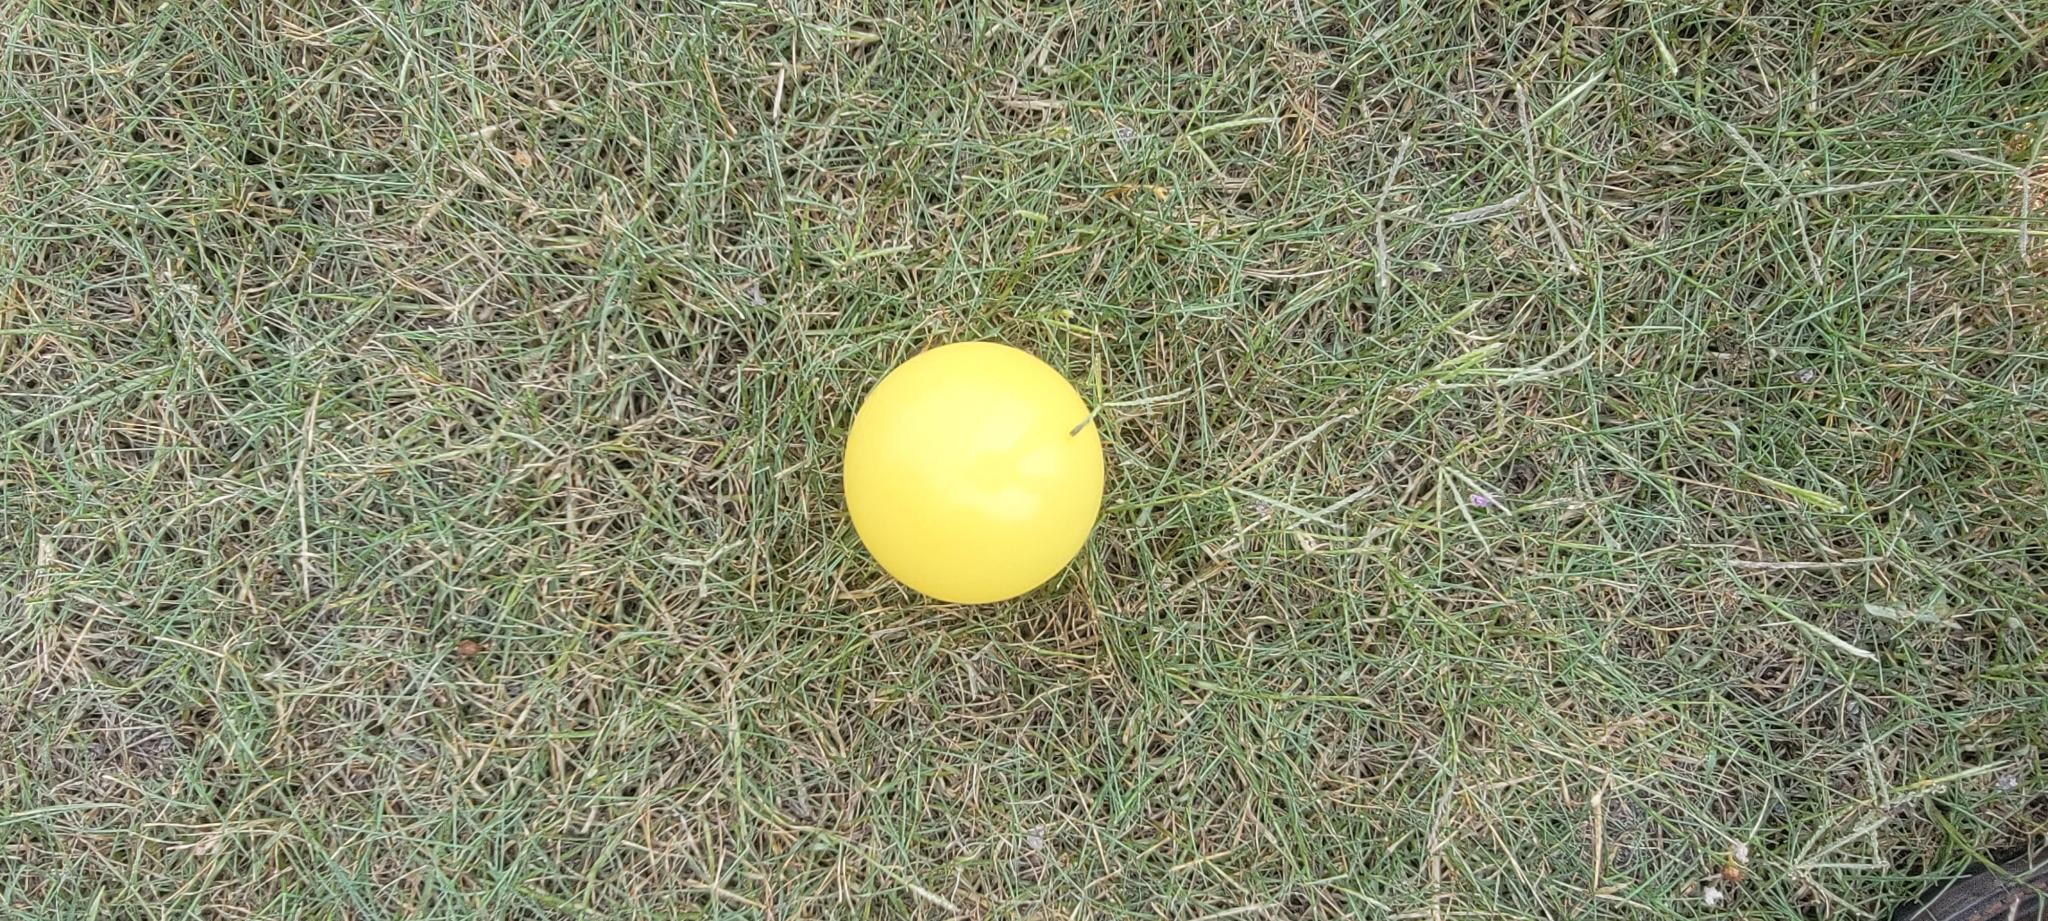Yellow-Ball: (317, 844, 579, 921)
